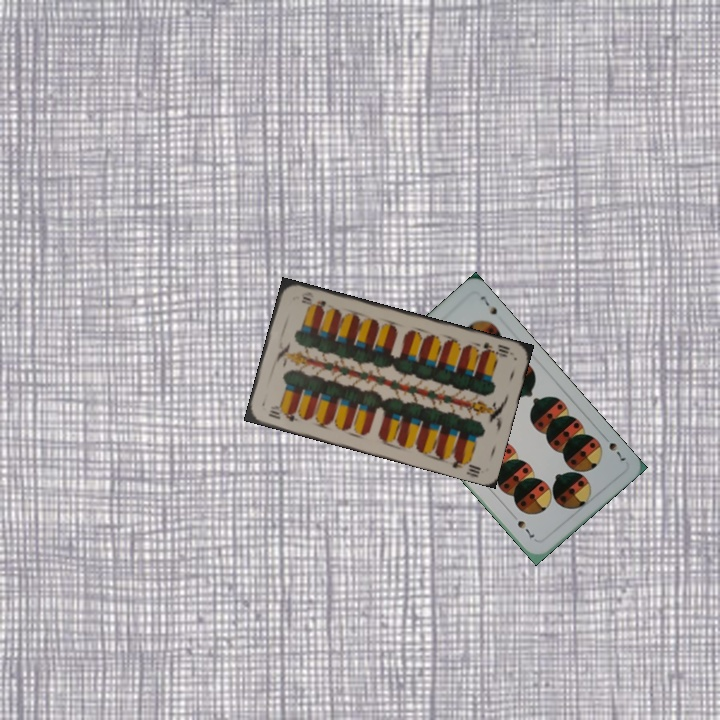E10: (478, 338, 513, 360), (264, 406, 300, 424)
S7: (605, 438, 629, 464)
